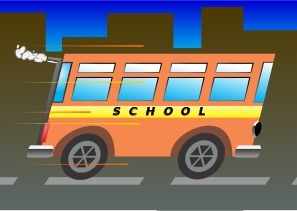bus: (26, 46, 279, 175)
